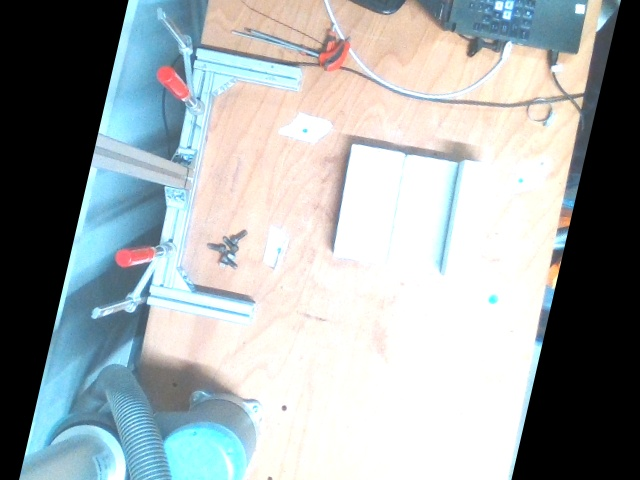brick-side: (444, 158, 496, 283)
